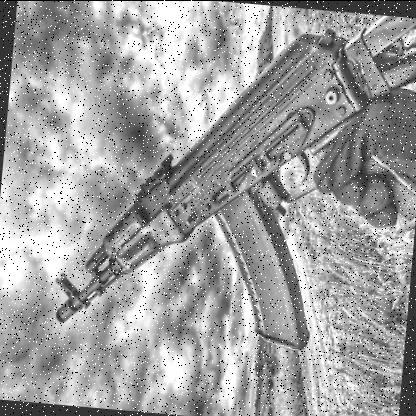rifle: (38, 0, 416, 375)
